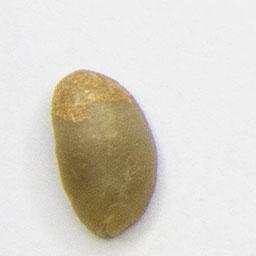longberry: (47, 66, 162, 241)
